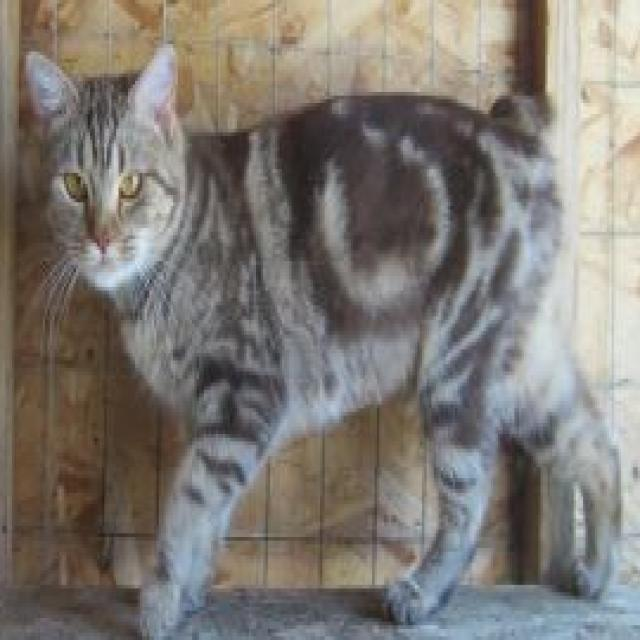American Bobtail: (19, 33, 623, 640)
